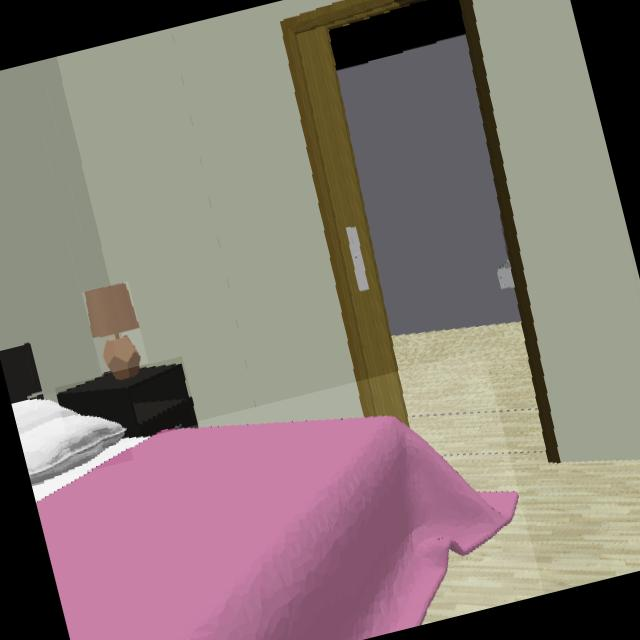bed: (31, 415, 520, 640)
lamp: (84, 284, 142, 380)
nighttable: (58, 363, 198, 437)
pillow: (11, 400, 126, 485)
